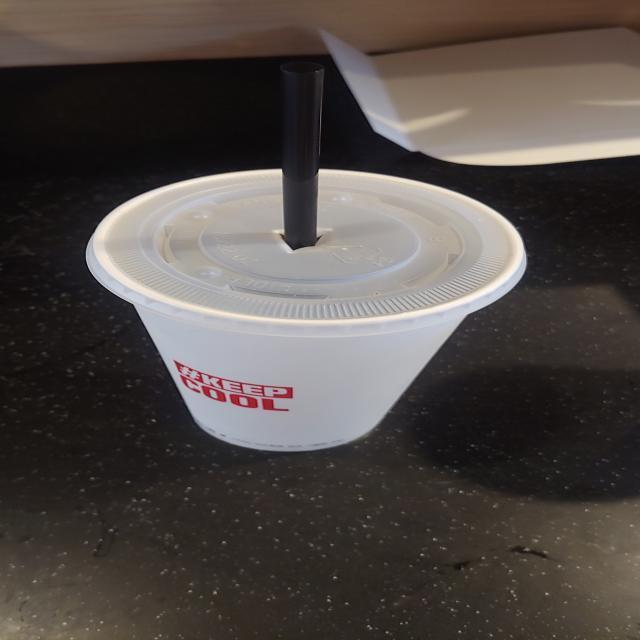cup: (66, 140, 532, 484)
